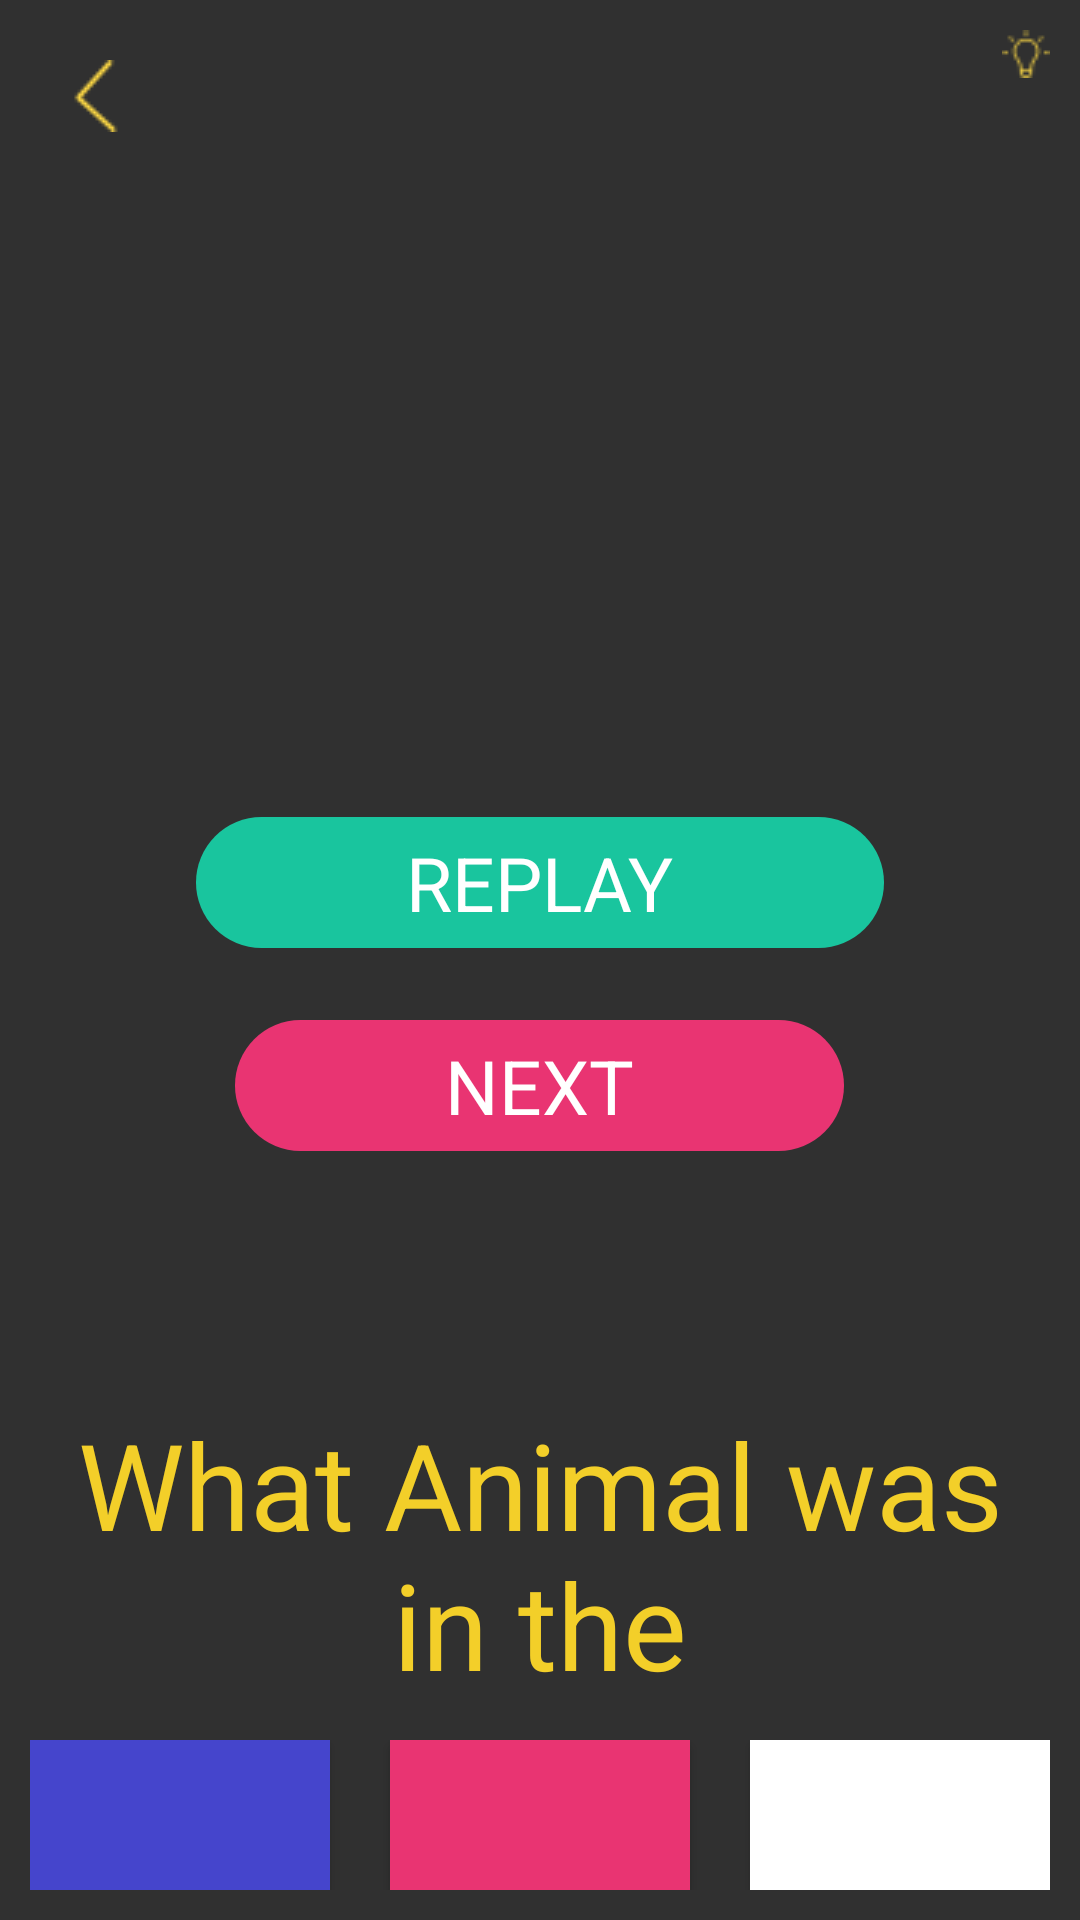

Icons on this 1080 x 1920 Android screen, each with the point to tap as (x,y):
arrow: (95,96)
lightbulb: (1026,54)
